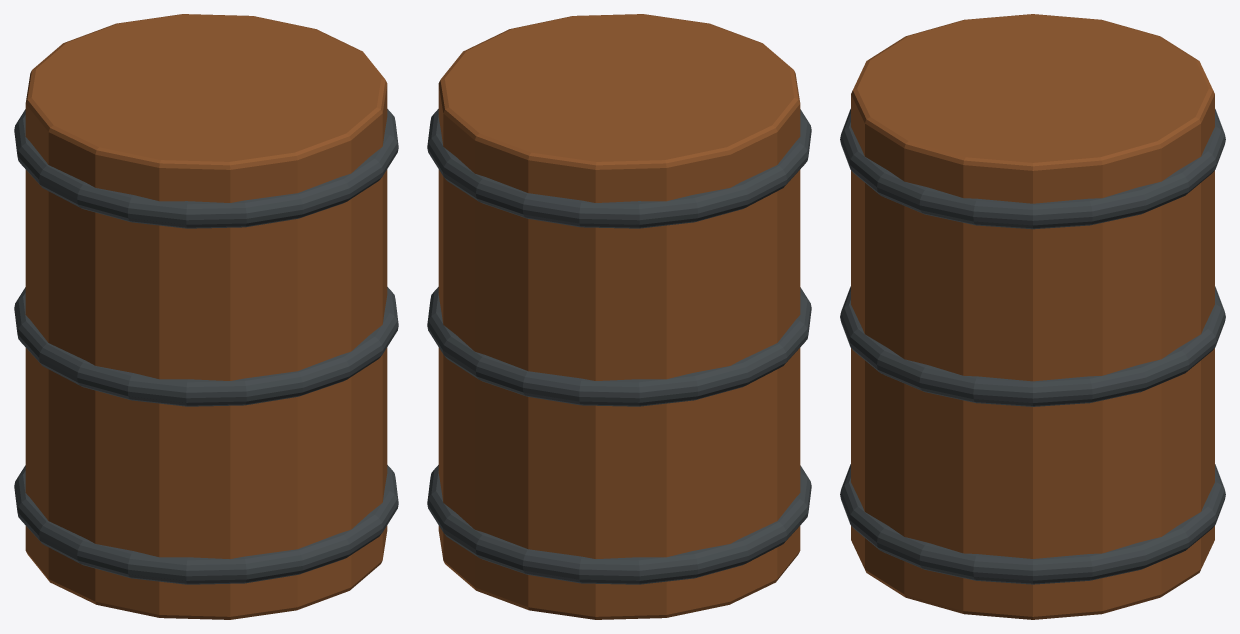
File: SM_Barrel.fbx
The picture shows the model from 3 angles, left to right: view 1: azimuth 30°, elevation 25°; view 2: azimuth 150°, elevation 25°; view 3: azimuth 270°, elevation 25°; orthographic projection.
Visible parts, largest first — view 1: SM_Barrel; view 2: SM_Barrel; view 3: SM_Barrel.
Part boxes in pixels (x1,y1,x2,y2): SM_Barrel: [14, 14, 398, 619]; SM_Barrel: [427, 14, 811, 619]; SM_Barrel: [840, 14, 1225, 619].
Bounding box in the file's own units: 110 × 110 × 144.
